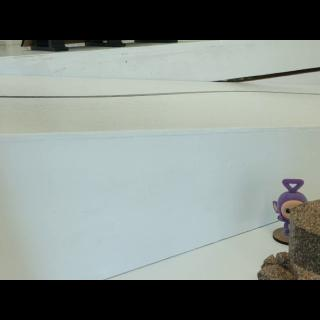teletubby: (272, 179, 308, 236)
